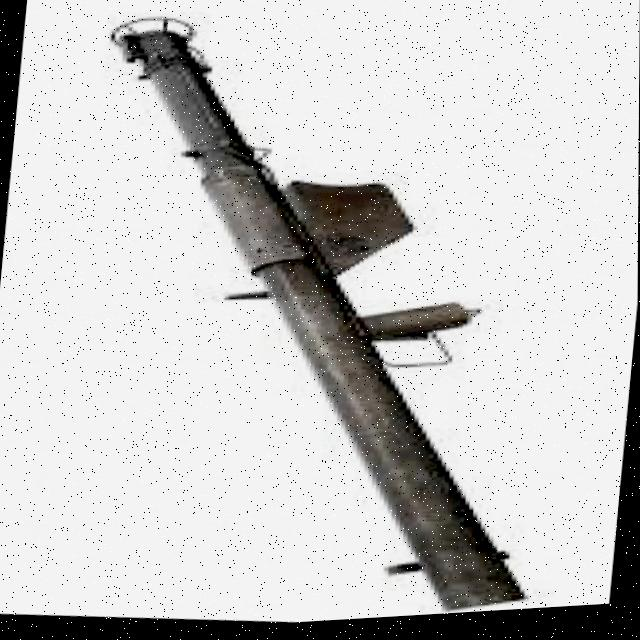rocket: (53, 0, 580, 637)
